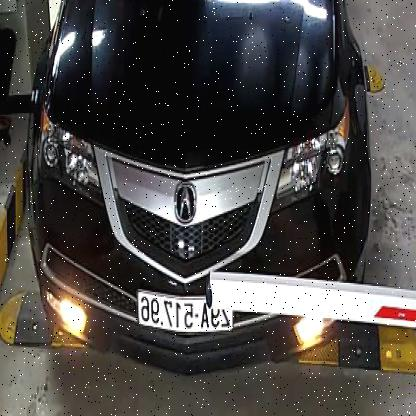license plate: (141, 289, 231, 329)
